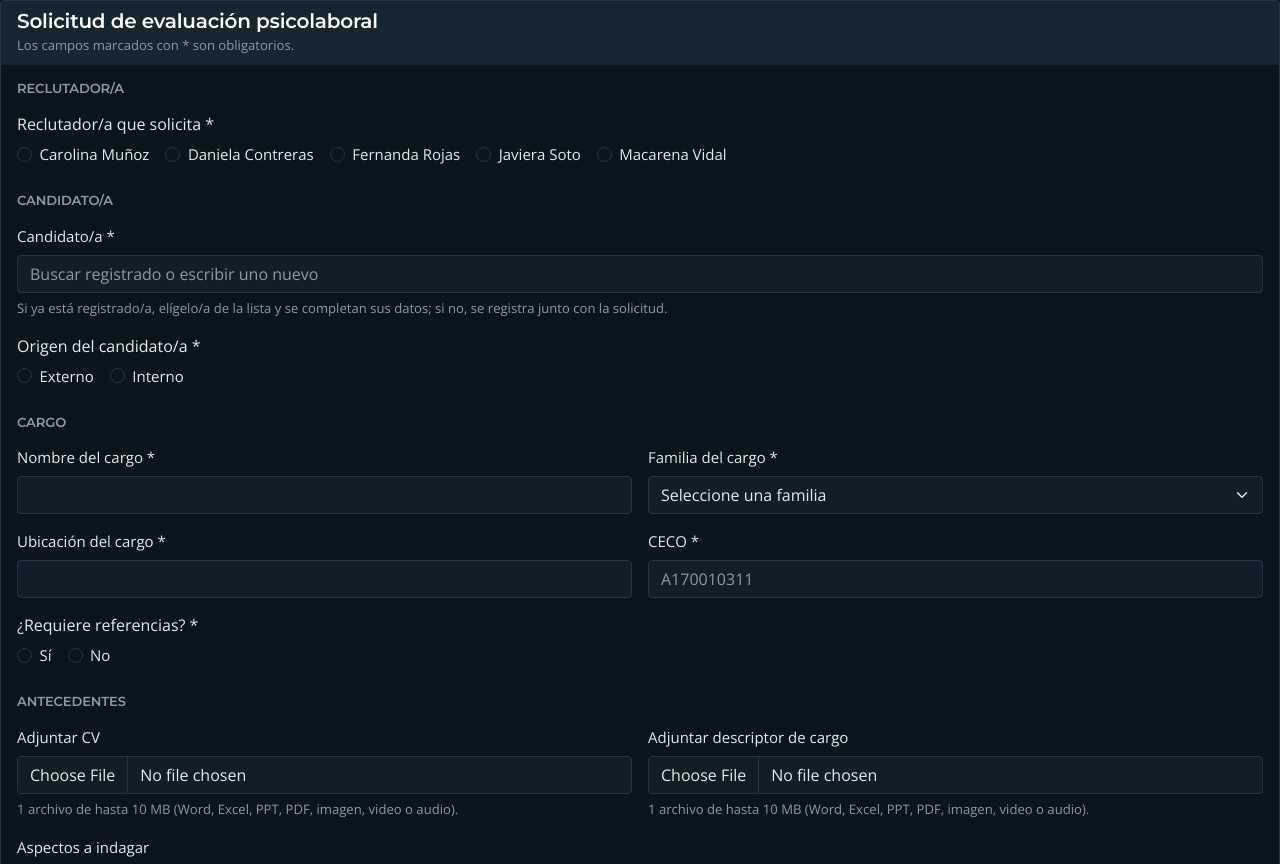
Test: FormularioSolicitud › solo pregunta si es referido para candidatos externos
Click the radio button labelled "Interno" at (117, 376), box [110,368,125,383]
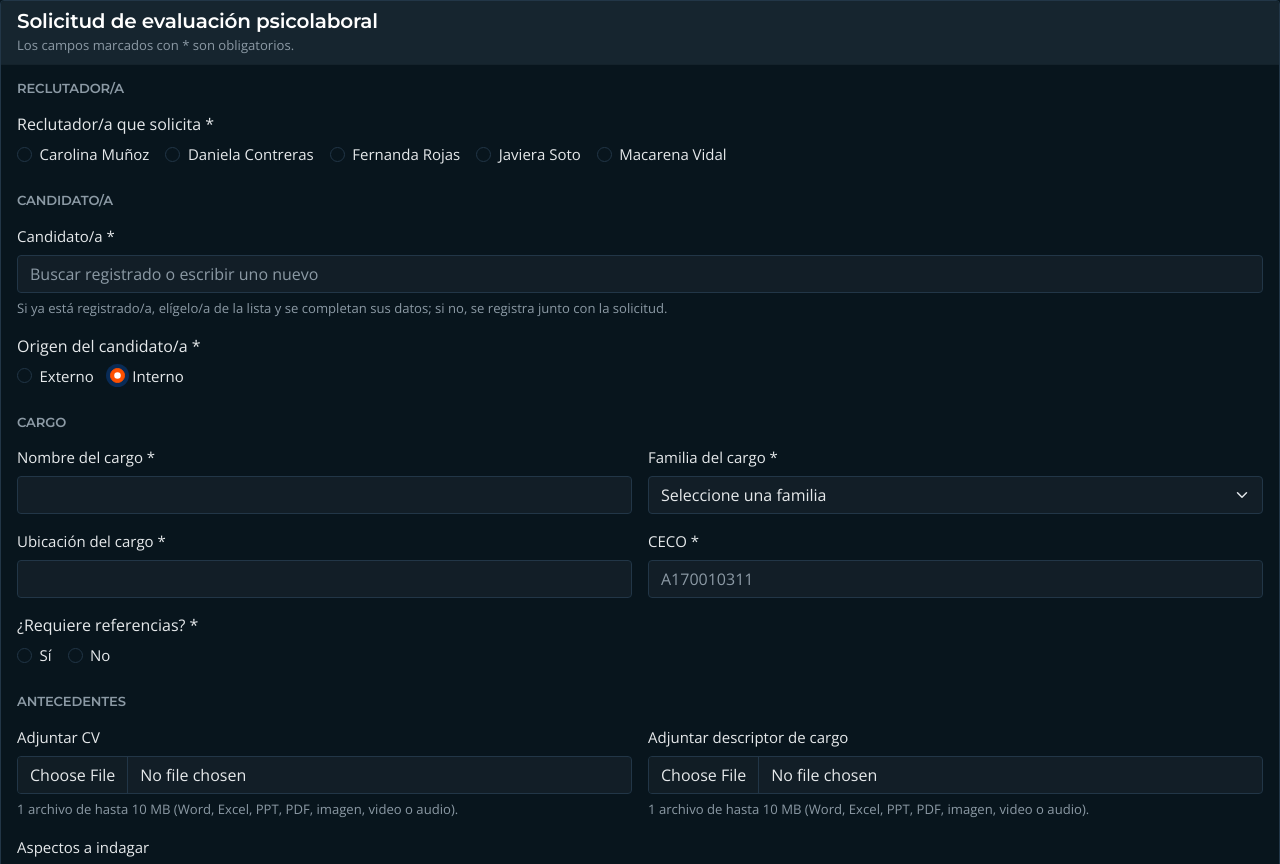
Check: the element "referido" is not shown
Click the radio button labelled "Externo" at (24, 376), box [17,368,32,383]
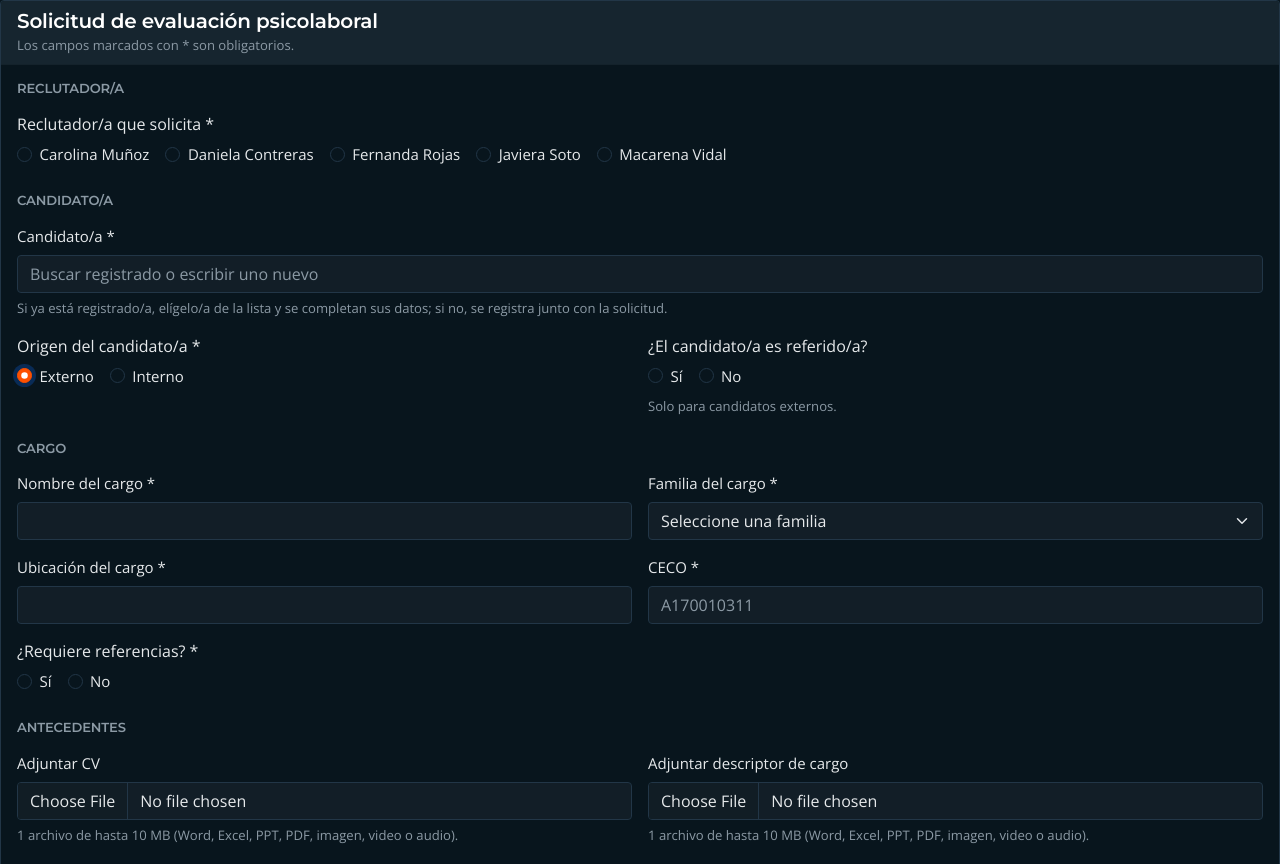
Check: the element "referido" is shown, box [648,334,867,414]
